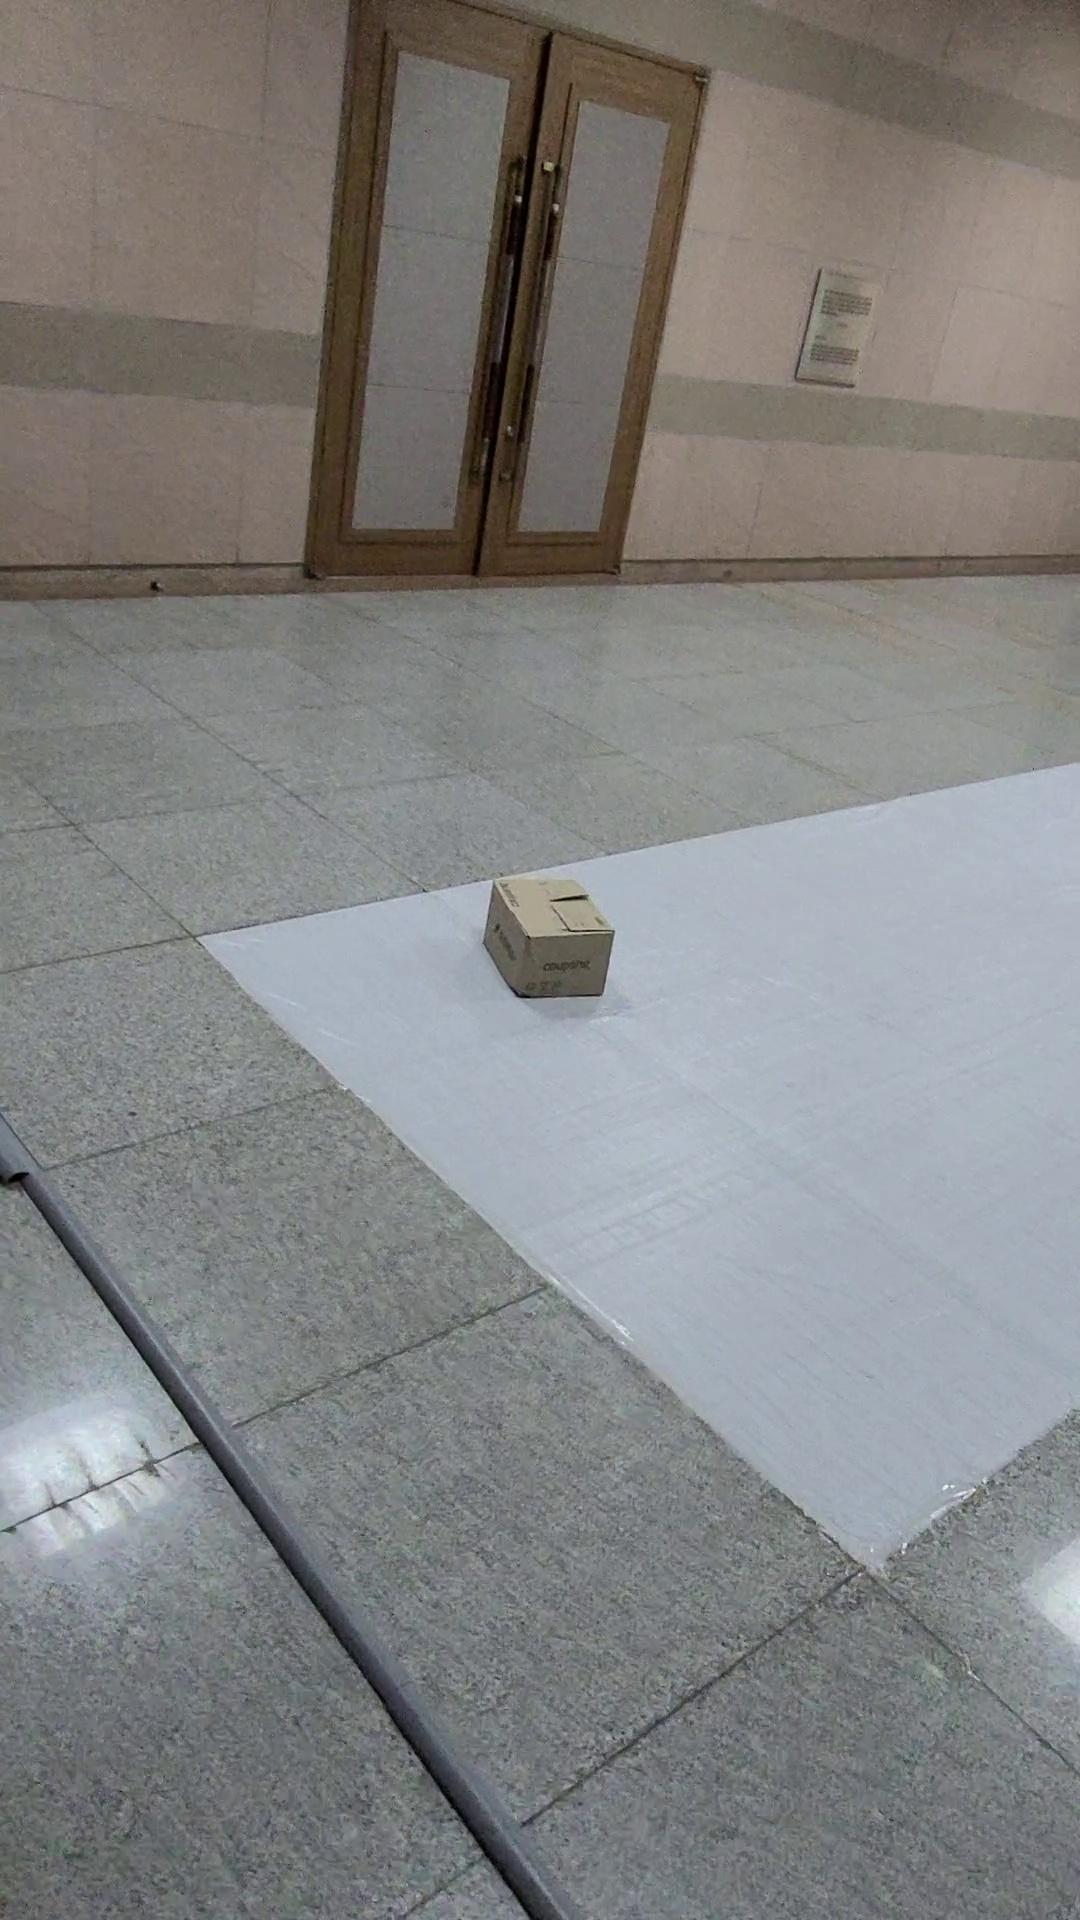Box: (487, 858, 633, 1004)
